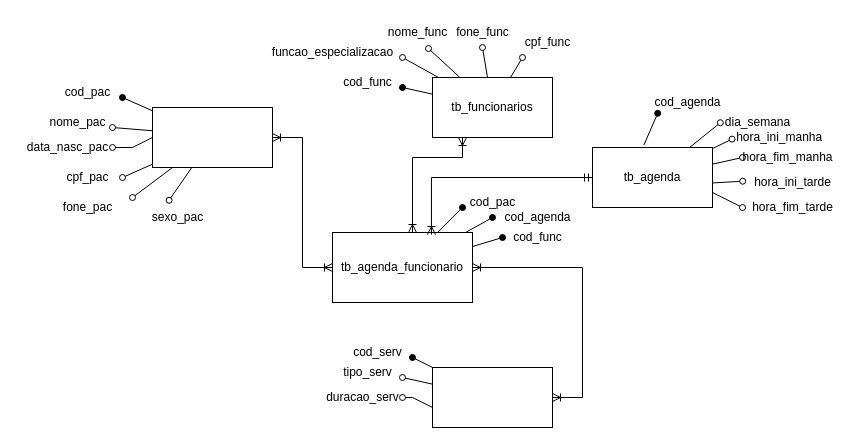
This 859x445 diagram has some shape labels left out. Here are the shapes that lost their labels. From the top down, the centre of each, then its label:
At (x=212, y=137): "tb_pacientes".
At (x=492, y=397): "tb_serviço".
